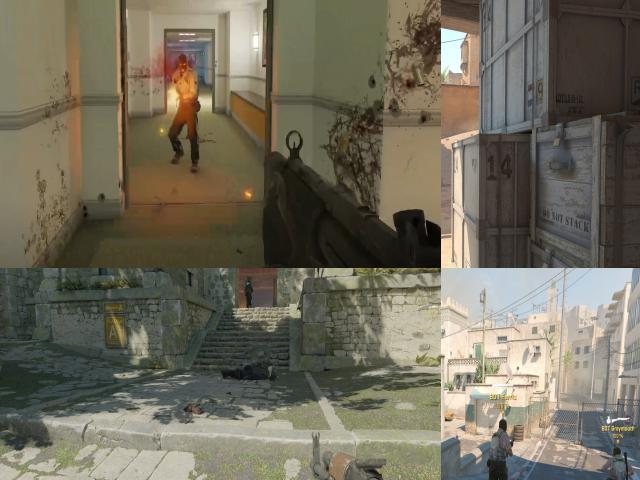CT: (242, 277, 254, 316)
CT-Head: (246, 280, 251, 286)
Dead: (219, 356, 282, 381)
T: (484, 418, 516, 480), (172, 59, 200, 122), (606, 447, 624, 480)
T-Head: (175, 52, 190, 74), (613, 446, 623, 458), (499, 420, 508, 433)
